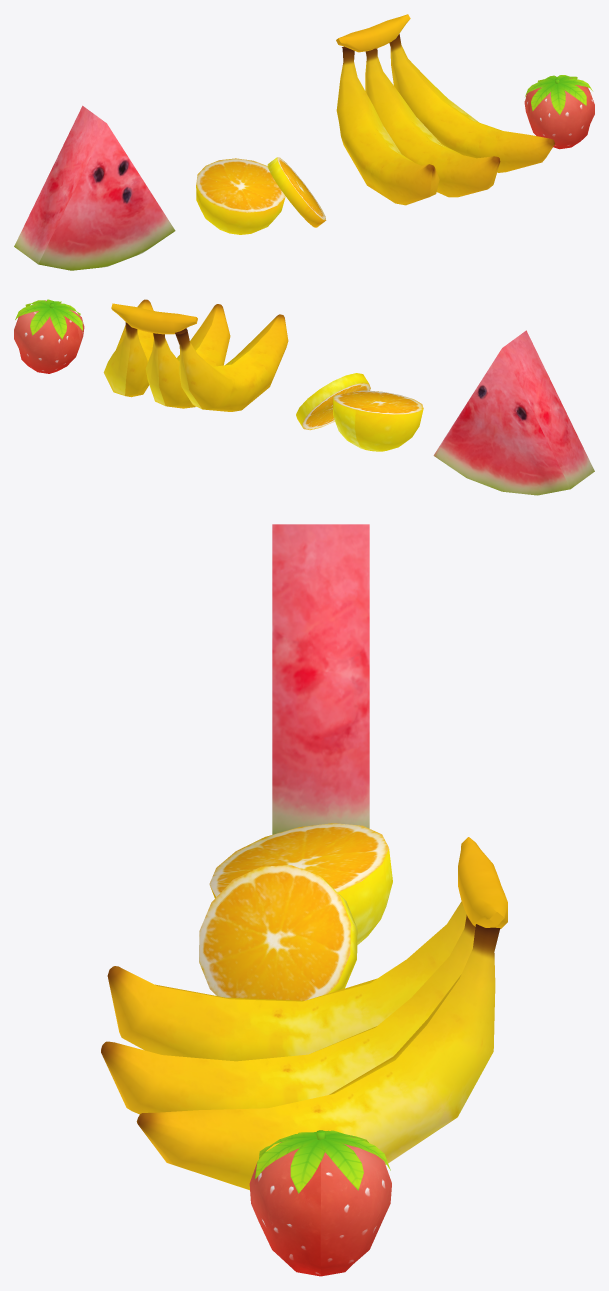
Rendered from stylized_fruits.glb.
3 views of the same model, one above another, from view 1: azimuth 30°, elevation 25°; view 2: azimuth 150°, elevation 25°; view 3: azimuth 270°, elevation 25° (orthographic). The views are drawn at different scales.
Visible parts, largest first — view 1: Cube.001, Watermelon, Cylinder, Cube, Cylinder.001; view 2: Watermelon, Cube.001, Cylinder, Cube, Cylinder.001; view 3: Cube.001, Watermelon, Cylinder.001, Cube, Cylinder.
Boxes of the visible parts, x1,y1,x2,y2 form: Cube.001: [336, 14, 554, 205]; Watermelon: [14, 105, 175, 270]; Cylinder: [196, 158, 285, 234]; Cube: [524, 75, 594, 149]; Cylinder.001: [267, 157, 326, 227]; Watermelon: [433, 330, 594, 495]; Cube.001: [103, 299, 288, 411]; Cylinder: [333, 390, 423, 451]; Cube: [14, 299, 84, 373]; Cylinder.001: [296, 373, 370, 430]; Cube.001: [101, 837, 507, 1190]; Watermelon: [272, 524, 369, 834]; Cylinder.001: [199, 865, 357, 1000]; Cube: [249, 1130, 391, 1276]; Cylinder: [209, 823, 392, 944].
Bounding box in the file's own units: 3.78 × 0.9561 × 1.18.
Materials: 1 (1 with a texture image).
